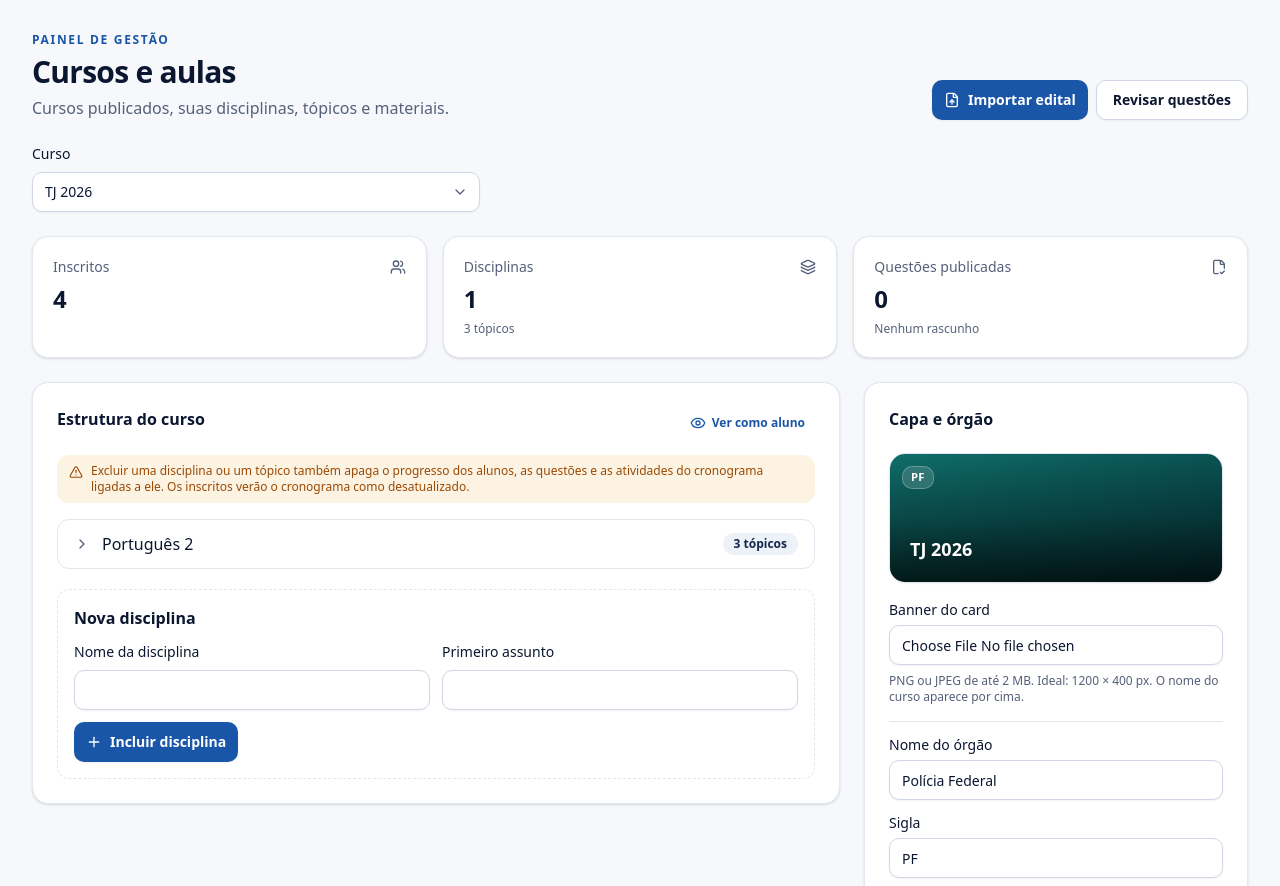
Test: TelaAdminCursos › troca de curso pelo seletor e respeita o curso do endereco
This screenshot has width=1280, height=886.
expect the element named "Números de TJ 2026" is shown: met, box [32,236,1248,358]
expect the text "Nenhum rascunho" is shown: met, box [874,320,979,337]
Step 1. Select "PF 2026" in the dropdown labelled "Curso" → {"x": 256, "y": 192}, box [32,172,480,212]
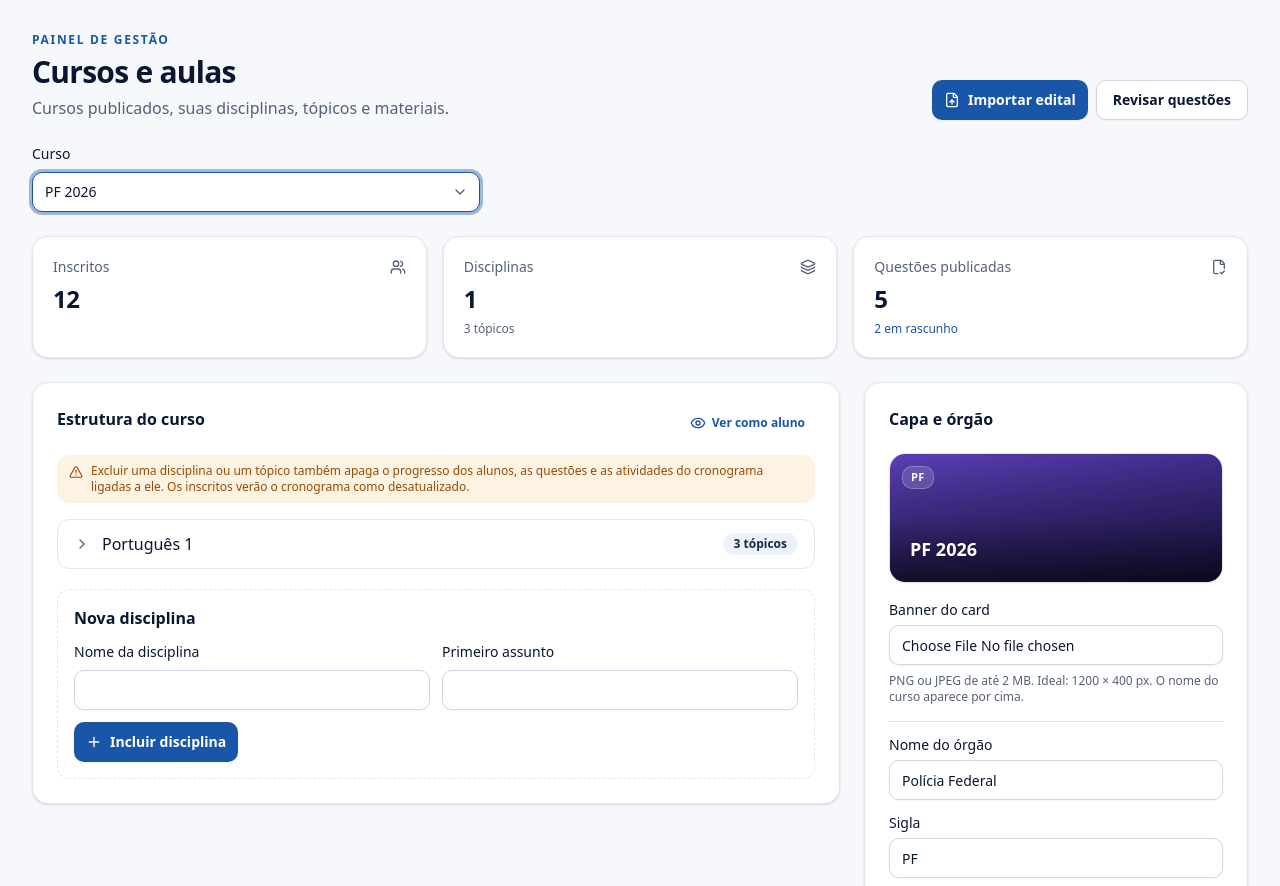
expect the element named "Números de PF 2026" is shown: met, box [32,236,1248,358]
